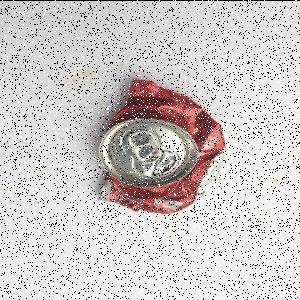Can: (96, 79, 228, 216)
